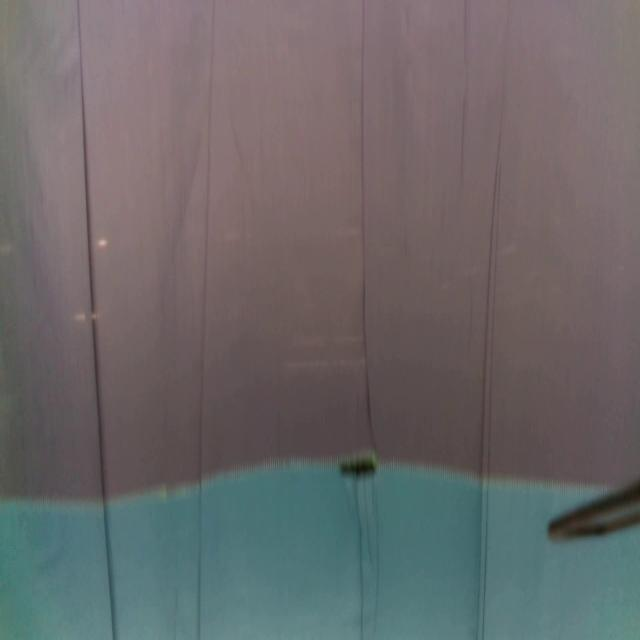crease: (76, 0, 115, 640), (473, 122, 504, 638), (195, 1, 217, 640), (358, 0, 378, 452), (458, 0, 470, 189), (354, 486, 365, 637), (372, 479, 382, 623)
hole: (340, 455, 376, 480)
